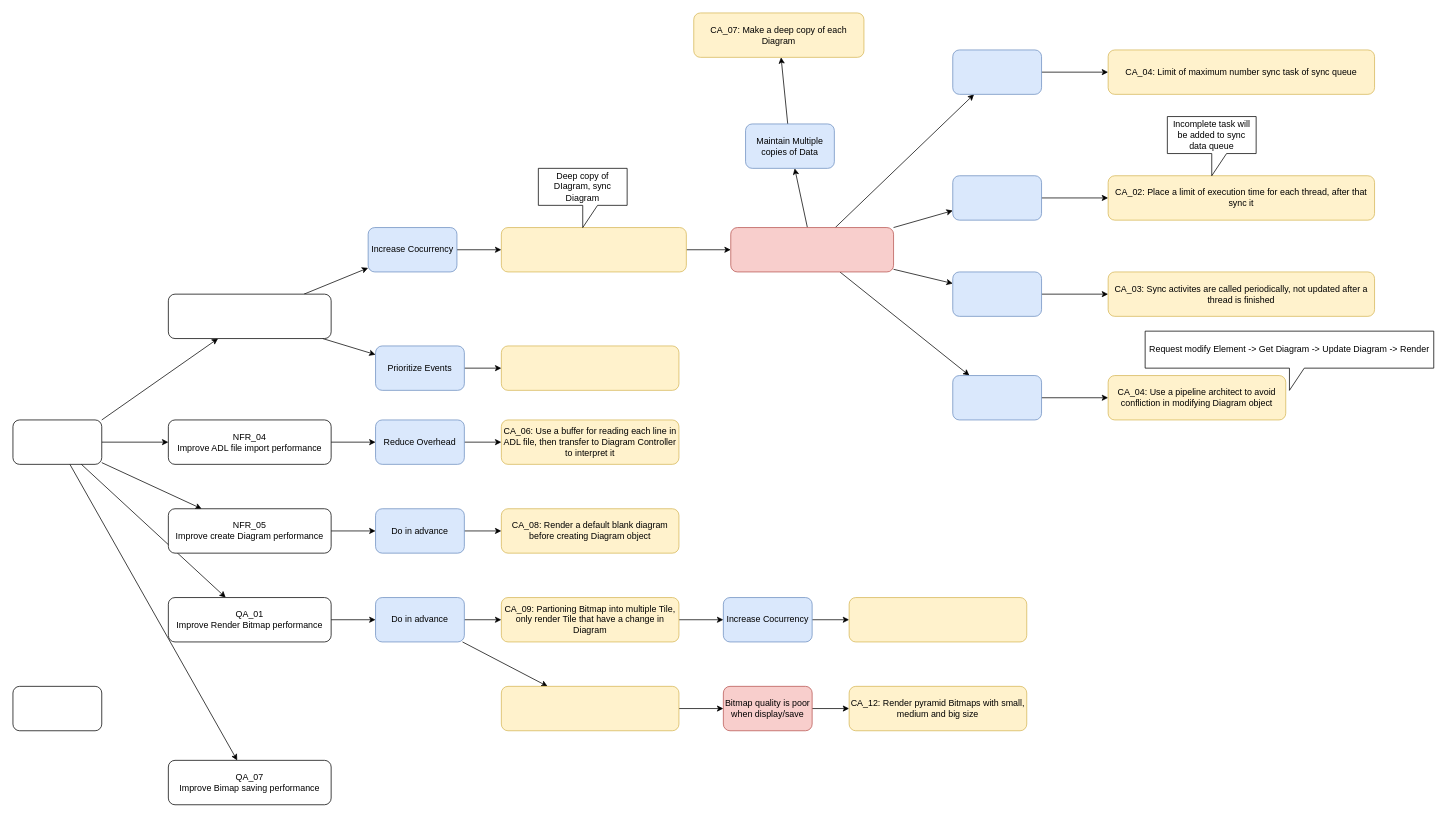
The diagram is 1447 pixels wide and 818 high, and some of its shapes have lost their labels. Each missing label, with the box of its shape:
Bound Exection Times: (952, 175, 1042, 220)
Bound Queue Sizes: (952, 49, 1042, 94)
CA_01: Each request is processed parallelly: (501, 227, 686, 272)
CA_05: Add Element modifier requests to queue, process sequentially: (501, 345, 679, 390)
CA_10: Render changing Tile paralelly: (848, 597, 1027, 642)
CA_11: Render Bitmap in smaller size: (501, 686, 679, 731)
Limit event respose: (952, 271, 1042, 316)
Modiafibilty: (12, 686, 102, 731)
Need more memory and CPU cores Need to be sync after finishing request: (730, 227, 894, 272)
NFR_01/02/03 Improve multiple element modifcation speed: (168, 293, 331, 339)
Performance: (12, 419, 102, 464)
Schedule Resources: (952, 375, 1042, 420)
